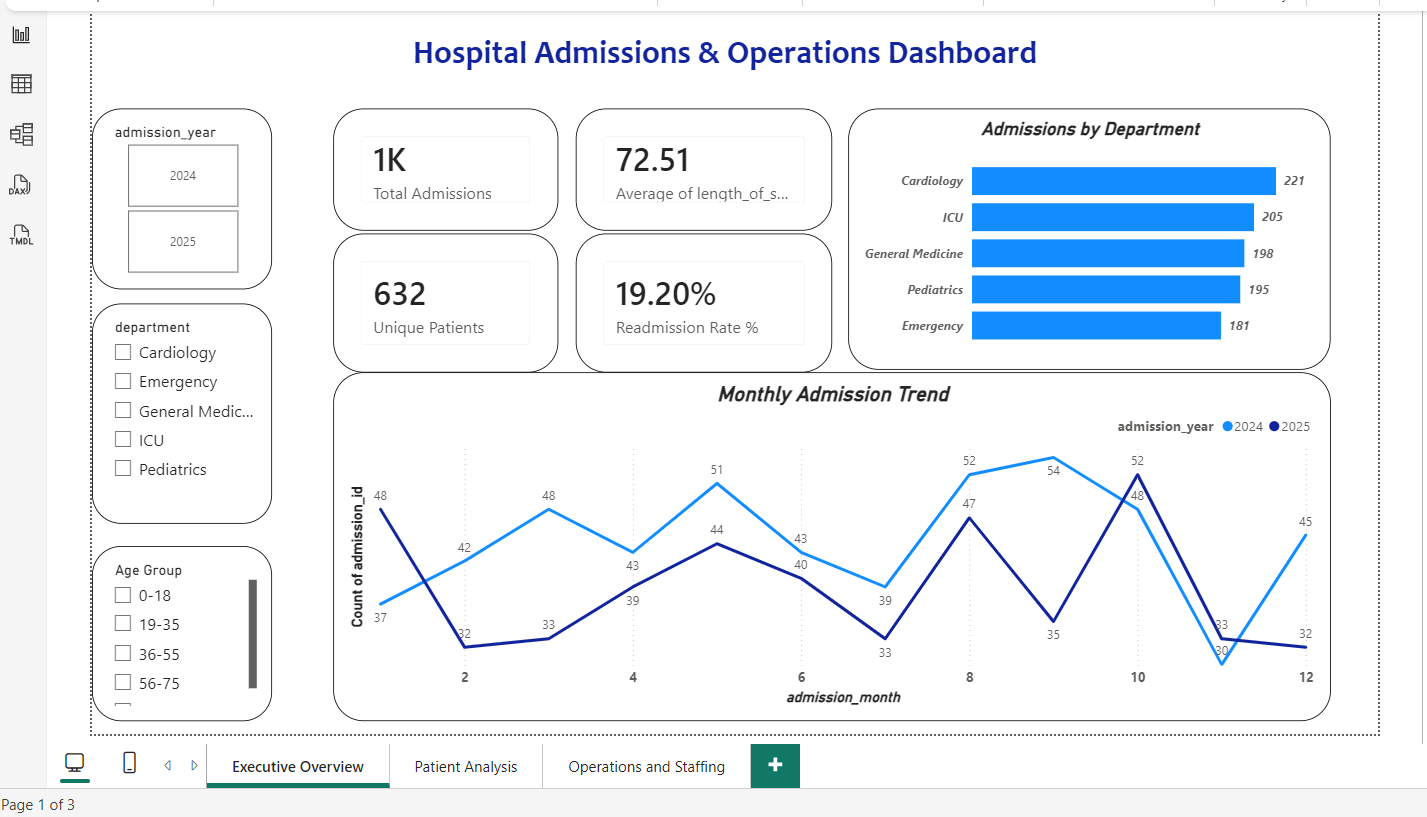

This screenshot's page, from the dashboard's own definition file:
{"tool":"powerbi","page":{"name":"Executive Overview","canvas":[1280,720],"ordinal":0},"visuals":[{"type":"cardVisual","fields":{"Data":["CountNonNull(patient_admission_final.admission_id)"]},"box":[240.1,97,223.9,121.9],"z":0},{"type":"cardVisual","fields":{"Data":["Count(patient_admission_final.patient_id)"]},"box":[240.1,221.4,223.9,138.1],"z":1000},{"type":"cardVisual","fields":{"Data":["Avg(patient_admission_final.length_of_stay_hours)"]},"box":[481.4,97,255,121.9],"z":2000},{"type":"cardVisual","fields":{"Data":["patient_admission_final.Readmission Rate %"]},"box":[481.4,221.4,255,138.1],"z":3000},{"type":"clusteredBarChart","title":"Admissions by Department","fields":{"Y":["CountNonNull(patient_admission_final.admission_id)"],"Category":["patient_admission_final.department"]},"box":[752.6,97,480.2,260],"z":4000},{"type":"lineChart","title":"Monthly Admission Trend","fields":{"Category":["patient_admission_final.admission_month"],"Y":["CountNonNull(patient_admission_final.admission_id)"],"Series":["patient_admission_final.admission_year"]},"box":[240.1,359.5,992.7,347.1],"z":5000},{"type":"slicer","fields":{"Values":["patient_admission_final.department"]},"box":[0,291.1,179.1,218.9],"z":6000},{"type":"slicer","fields":{"Values":["patient_admission_final.Age Group"]},"box":[0,532.4,179.1,174.2],"z":7000},{"type":"slicer","fields":{"Values":["patient_admission_final.admission_year"]},"box":[0,97,179.1,180.4],"z":8000},{"type":"textbox","box":[99.5,16.2,1061.1,59.7],"z":8001}]}

Visuals, with their boxes on the page's 1280x720 design canvas (x1, y1, x2, y2). These are canvas units, not pixel positions in the 1427x817 screenshot, which may show the page scaled, cropped or inside an application window:
cardVisual - CountNonNull(patient_admission_final.admission_id): <region>240, 97, 464, 219</region>
cardVisual - Count(patient_admission_final.patient_id): <region>240, 221, 464, 360</region>
cardVisual - Avg(patient_admission_final.length_of_stay_hours): <region>481, 97, 736, 219</region>
cardVisual - patient_admission_final.Readmission Rate %: <region>481, 221, 736, 360</region>
"Admissions by Department" clusteredBarChart: <region>753, 97, 1233, 357</region>
"Monthly Admission Trend" lineChart: <region>240, 360, 1233, 707</region>
slicer - patient_admission_final.department: <region>0, 291, 179, 510</region>
slicer - patient_admission_final.Age Group: <region>0, 532, 179, 707</region>
slicer - patient_admission_final.admission_year: <region>0, 97, 179, 277</region>
textbox: <region>100, 16, 1161, 76</region>
